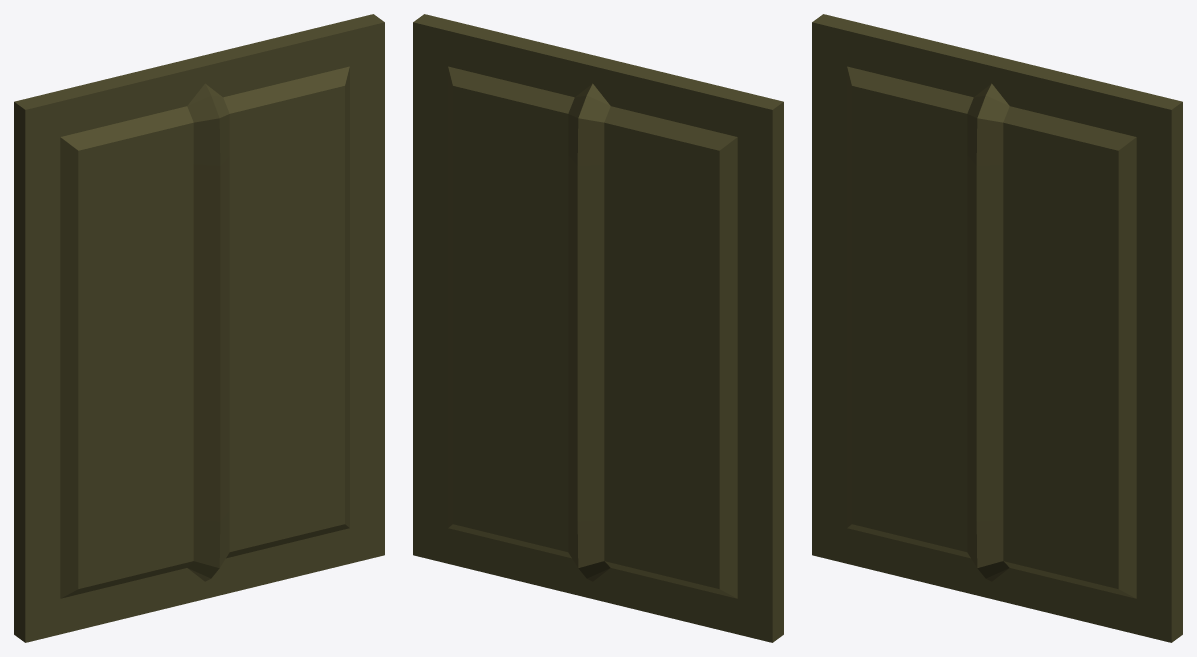
The model's file is stone_door_basic.fbx.
3 renders of one model, left to right at view 1: azimuth 30°, elevation 25°; view 2: azimuth 150°, elevation 25°; view 3: azimuth 330°, elevation 25°, orthographic.
Visible parts, largest first — view 1: stone_door_basic; view 2: stone_door_basic; view 3: stone_door_basic.
Part boxes in pixels (x1,y1,x2,y2): stone_door_basic: (14,14,384,642); stone_door_basic: (413,14,783,642); stone_door_basic: (812,14,1182,642).
Size of the model in its own units: 10.01 by 14.19 by 2.01.
